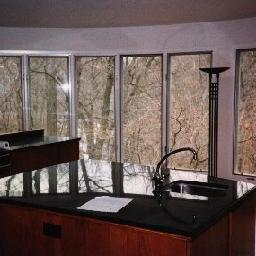Lavaplatos: (147, 144, 233, 206)
